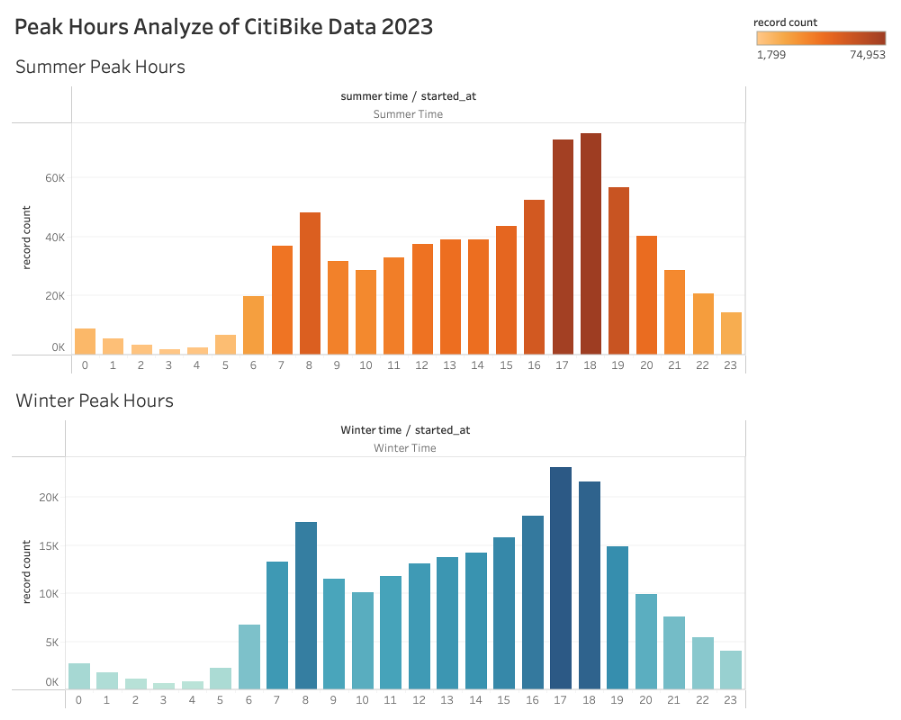

The dashboard page shown, as its layout file describes it:
{"tool":"tableau","page":{"name":"Peak hours analyze","canvas":[1000,800],"ordinal":0},"visuals":[{"type":"title","box":[8,8,824,41]},{"type":"legend","title":"Summer Peak Hours","param":"[federated.15jcs160k327vz147ii350szdhfd].[sum:Calculation_1632625244878168067:qk","box":[832,8,160,65]},{"type":"worksheet","title":"Summer Peak Hours","mark":"Bar","rows":["Calculation_1632625244878168067"],"cols":["started_at"],"box":[8,49,824,371.5]},{"type":"worksheet","title":"Winter Peak Hours","mark":"Bar","rows":["Calculation_1632625244878168067"],"cols":["started_at"],"box":[8,420.5,824,371.5]}]}

Visuals, with their boxes in screenshot pixels (x1, y1, x2, y2), scaled from the page's 1000x800 canvas onto the 901x720 screenshot:
title: 7/7/750/44
"Summer Peak Hours" legend: 750/7/894/66
"Summer Peak Hours" worksheet (Bar marks): 7/44/750/378
"Winter Peak Hours" worksheet (Bar marks): 7/378/750/713
